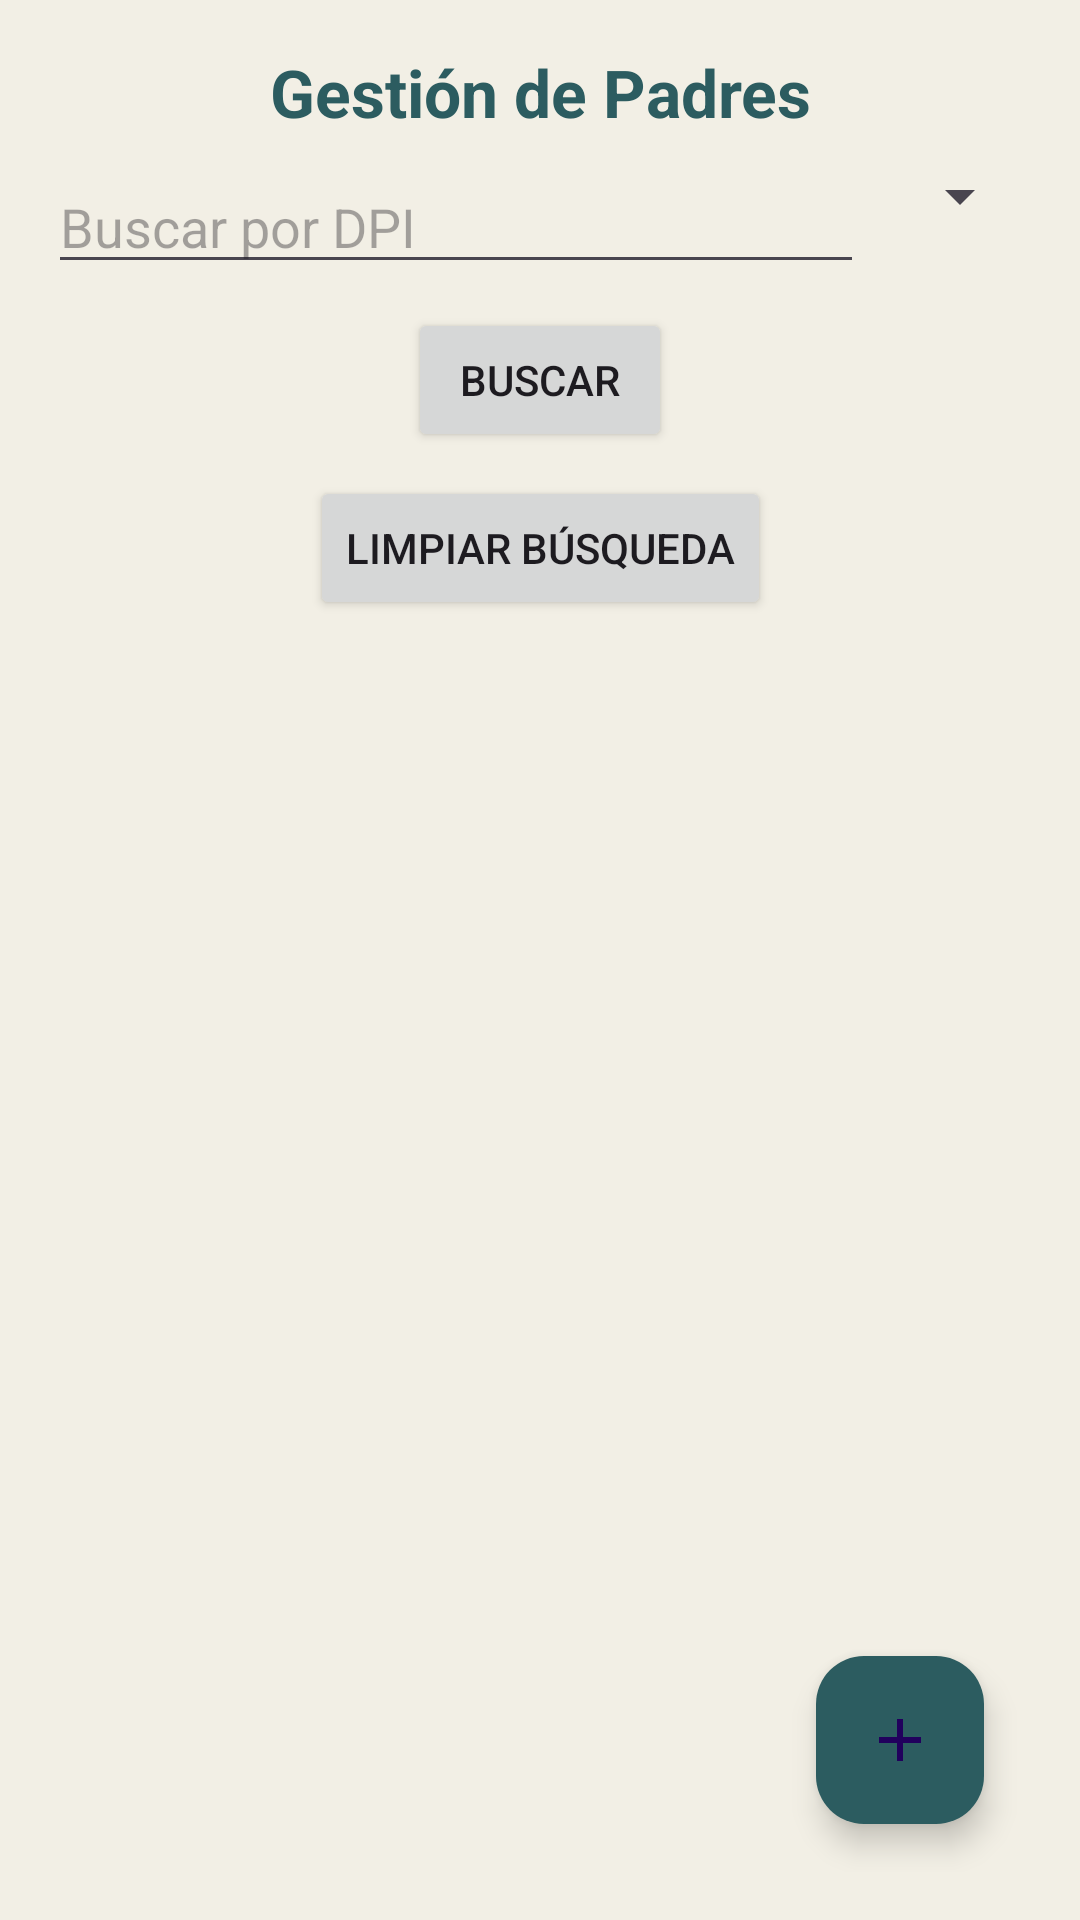

Icon bounding boxes for this 1080px x 1920px phone screenshot, format (x1, y1, x2, y2):
Agregar Padre: (816, 1656, 984, 1824)
